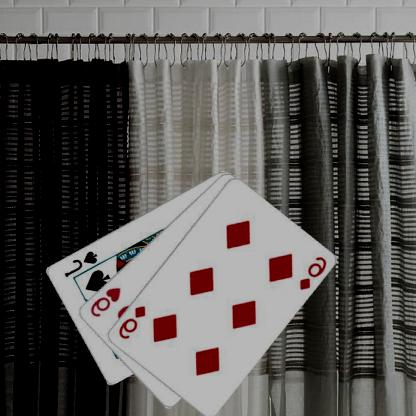6D: (298, 254, 329, 291), (118, 304, 148, 340)
6H: (88, 285, 124, 318)
JS: (63, 248, 100, 278)
